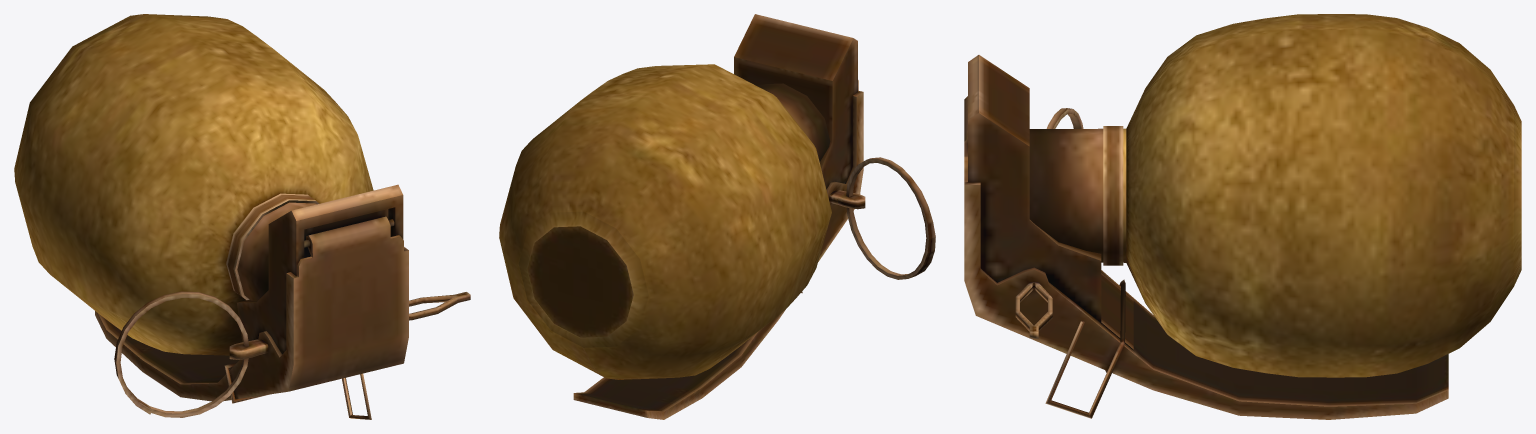
The model's file is K-413_Gold.obj.
3 views of the same model, side by side, from view 1: azimuth 30°, elevation 25°; view 2: azimuth 150°, elevation 25°; view 3: azimuth 270°, elevation 25° (orthographic). The views are drawn at different scales.
Visible parts, largest first — view 1: Model_K413; view 2: Model_K413; view 3: Model_K413.
Part boxes in pixels (x1,y1,x2,y2): Model_K413: [14, 14, 470, 419]; Model_K413: [499, 14, 935, 419]; Model_K413: [964, 14, 1521, 419].
Bounding box in the file's own units: 0.0537 × 0.05 × 0.0693.
Materials: 1 (1 with a texture image).
